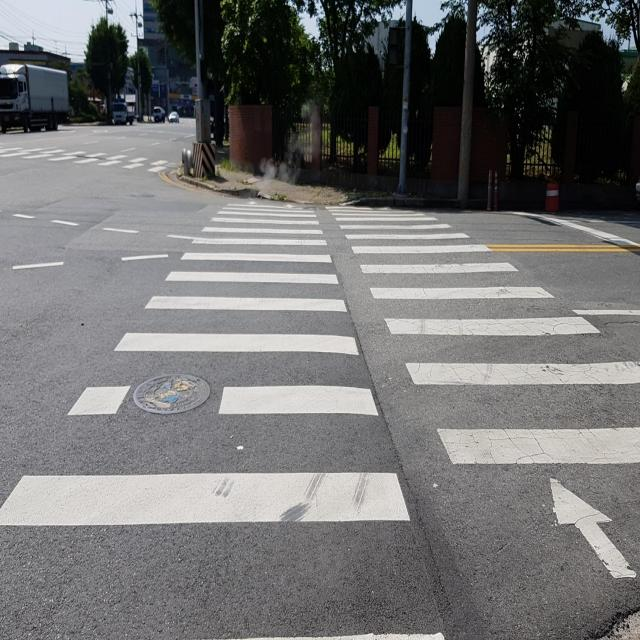횡단보도: (0, 200, 640, 639), (0, 146, 179, 173)
